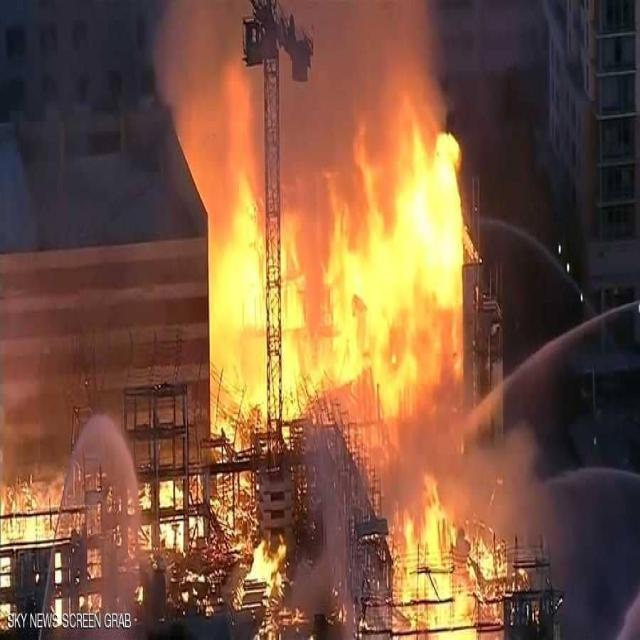Fire: (0, 73, 523, 640)
Smoke: (152, 0, 452, 149)
